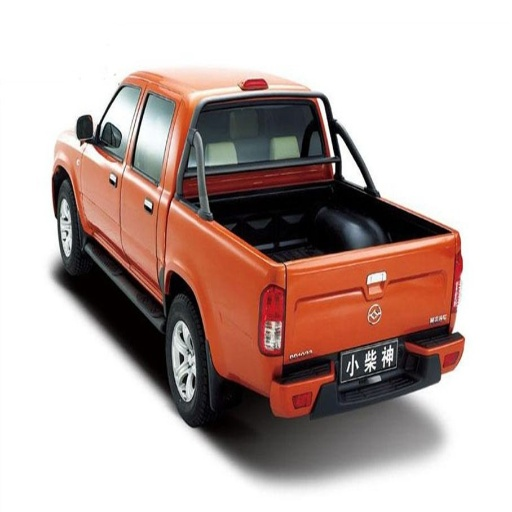back_bumper: (206, 99, 323, 159), (334, 218, 382, 247)
back_left_door: (264, 290, 284, 355)
back_left_light: (80, 165, 118, 240)
back_right_light: (207, 298, 370, 413)
front_glass: (82, 85, 139, 203)
front_left_light: (117, 193, 156, 277)
tailgate: (267, 244, 452, 359), (248, 165, 326, 188)
trunk: (165, 294, 213, 424), (56, 183, 82, 273)
